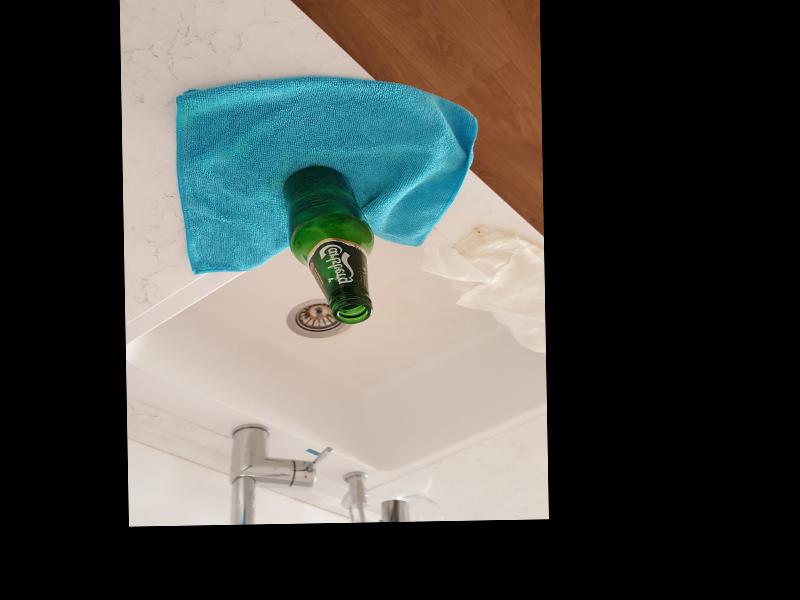Beer: (285, 162, 376, 322)
